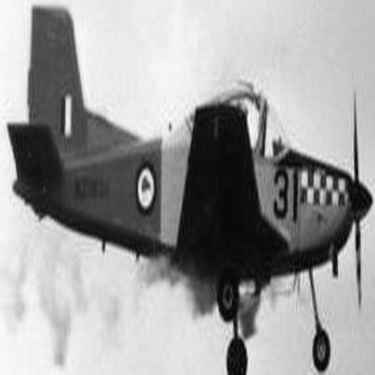airplane: (1, 2, 372, 373)
